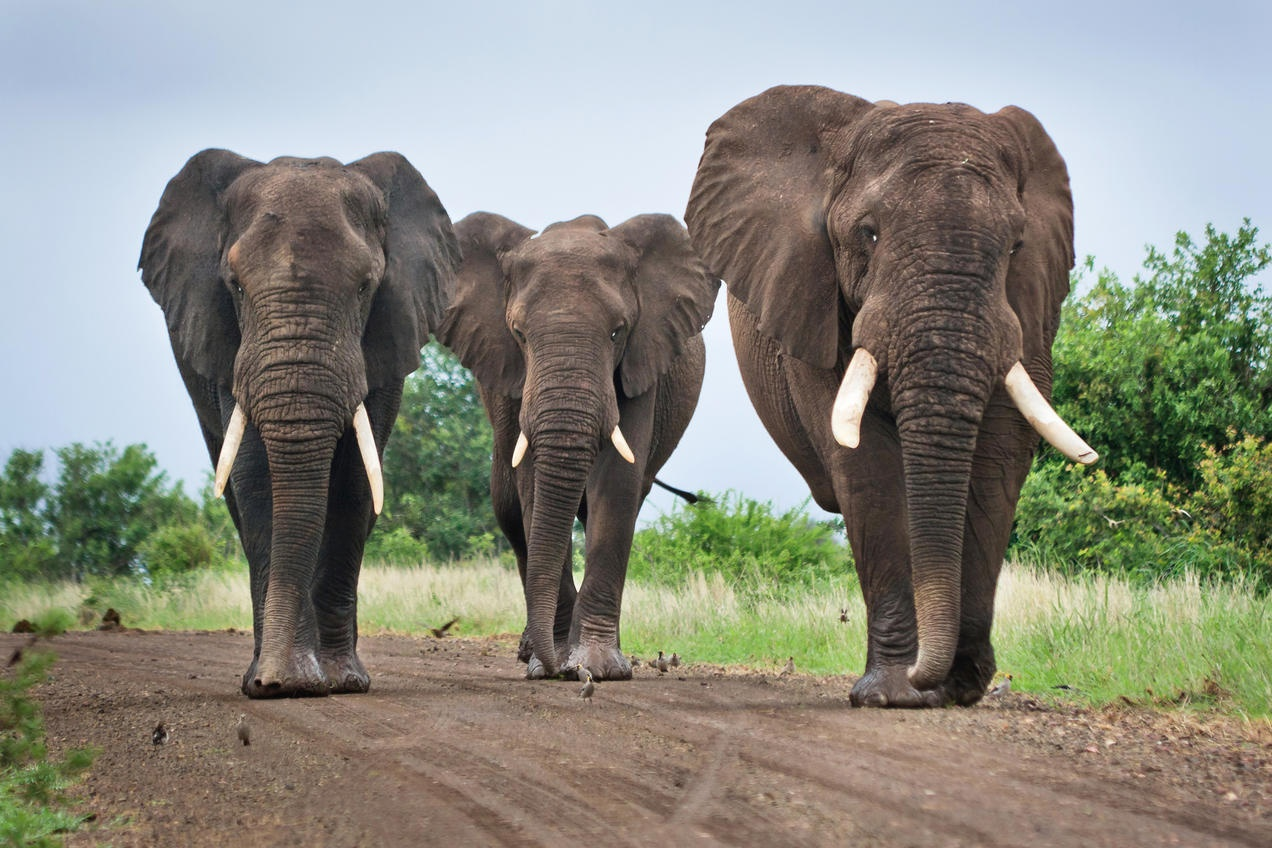elephant: (681, 80, 1101, 704), (134, 144, 462, 694), (423, 207, 725, 684)
